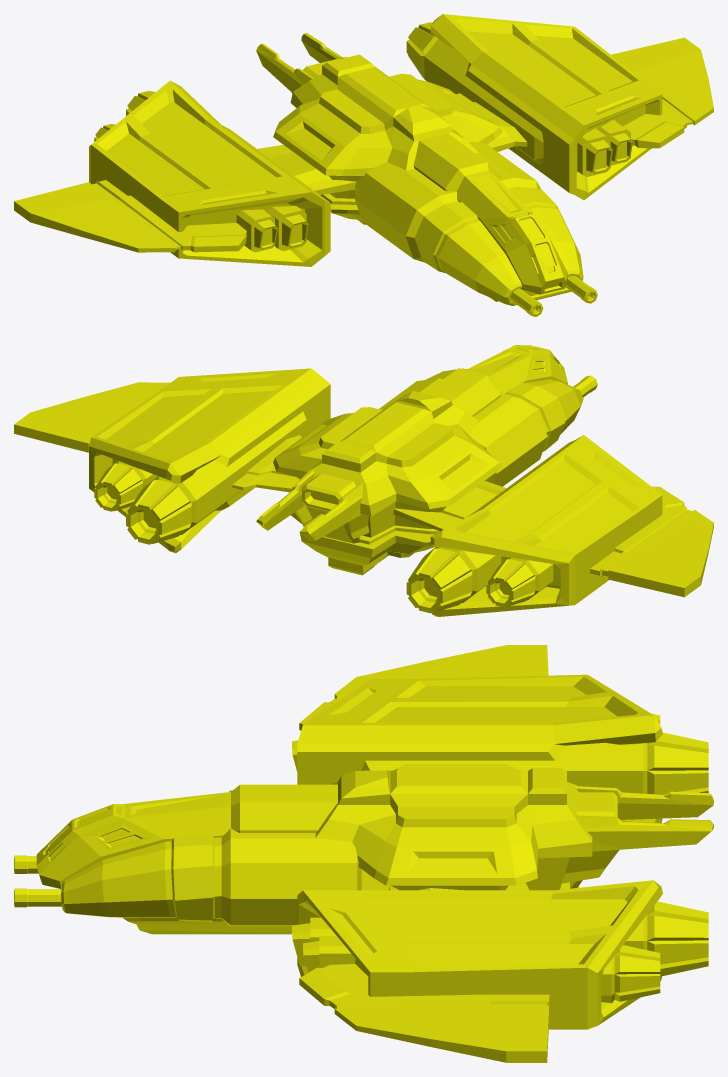
The model's file is SM_Ship_Bomber_01.gltf.
3 renders of one model, top to bottom at view 1: azimuth 30°, elevation 25°; view 2: azimuth 150°, elevation 25°; view 3: azimuth 270°, elevation 25°, orthographic. The views are drawn at different scales.
Parts seen in each view (by area): view 1: SM_Ship_Bomber_01; view 2: SM_Ship_Bomber_01; view 3: SM_Ship_Bomber_01.
Boxes of the visible parts, x1,y1,x2,y2 form: SM_Ship_Bomber_01: (14,14,713,316); SM_Ship_Bomber_01: (14,345,713,616); SM_Ship_Bomber_01: (14,645,713,1062).
Size of the model in its own units: 30.09 by 5.32 by 21.91.
1 material, 1 textured.
